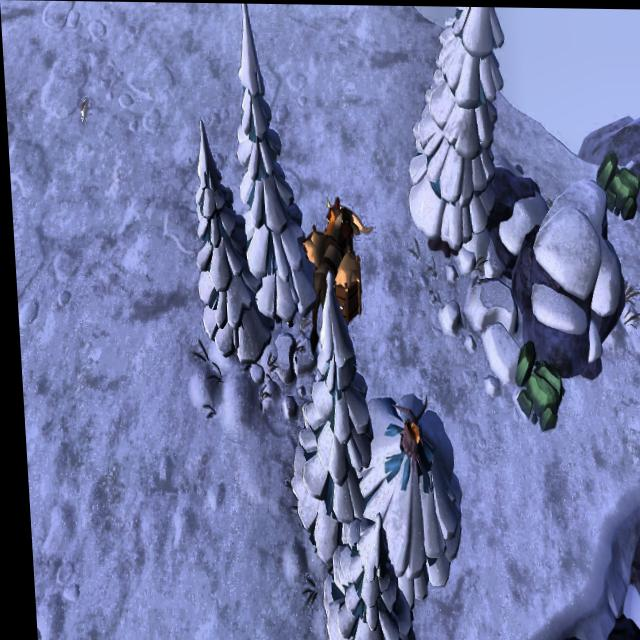rock_t3: (507, 337, 561, 431), (591, 145, 640, 216)
